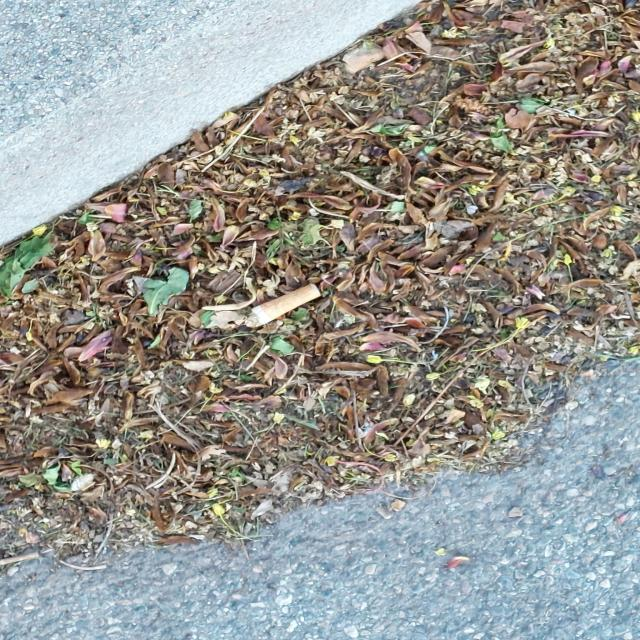other waste: (245, 283, 321, 328)
